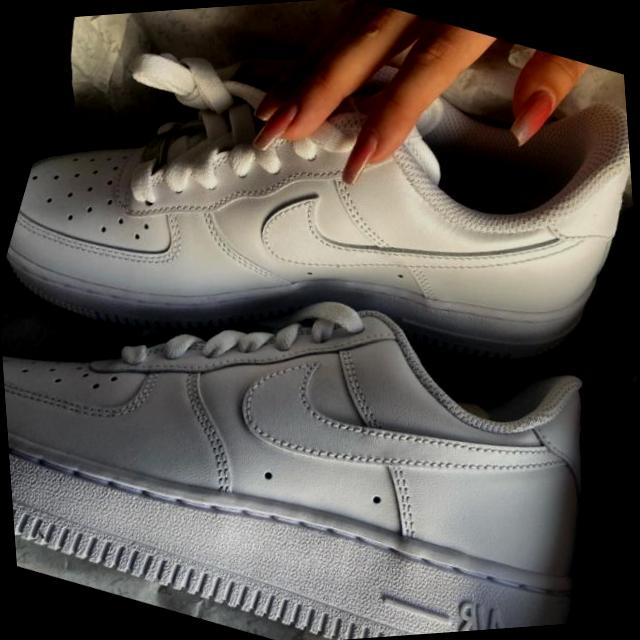nike_original_airforce: (0, 0, 640, 502), (0, 172, 640, 640)
